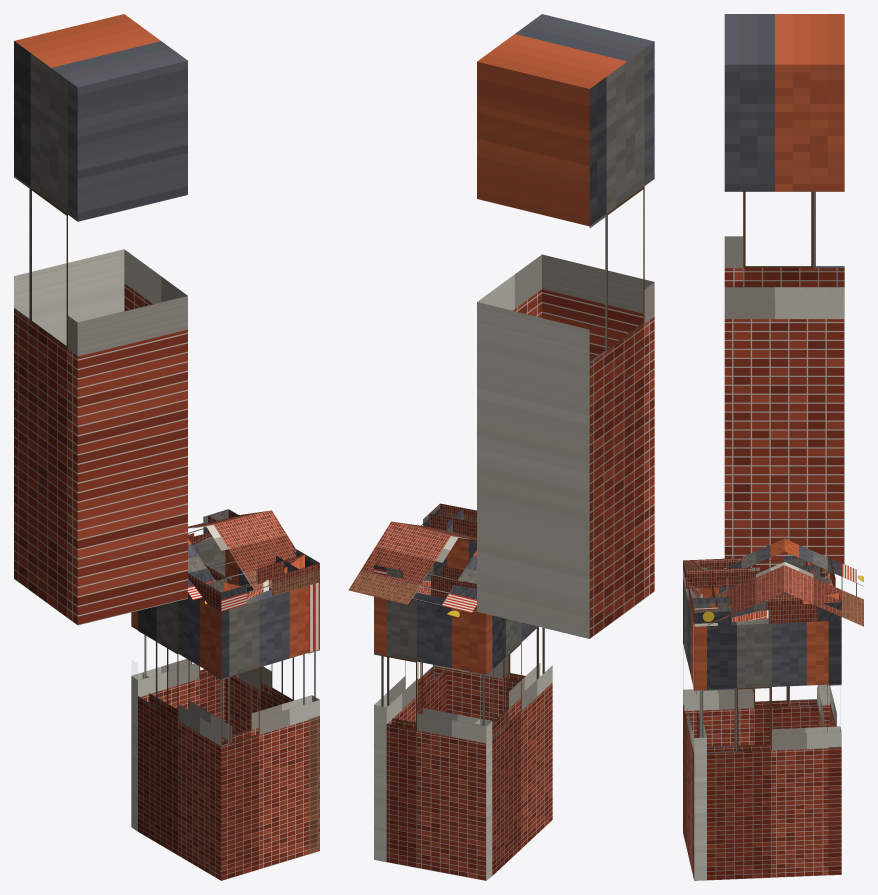
3 views of the same model, side by side, from view 1: azimuth 30°, elevation 25°; view 2: azimuth 150°, elevation 25°; view 3: azimuth 270°, elevation 25° (orthographic). The views are drawn at different scales.
Parts seen in each view (by area): view 1: 238625201__chimney_0_xb, 238625201__wall_3_xb, 238625201__wall_2_xb, 238625201__wall_4_xb, 238625201_roof_-1_xb, 238625201__wall_0_xb, 238625201__cornice_3, 238625201__wall_1_xb, 238625201__cornice_2; view 2: 238625201__chimney_0_xb, 238625201__wall_0_xb, 238625201__wall_2_xb, 238625201_roof_1_xb, 238625201__wall_4_xb, 238625201__wall_3_xb, 238625201__wall_1_xb, 238625201__cornice_3, 238625201__cornice_0; view 3: 238625201__chimney_0_xb, 238625201__wall_4_xb, 238625201__wall_2_xb, 238625201__wall_3_xb, 238625201_roof_1_xb, 238625201__wall_0_xb, 238625201__cornice_4, 238625201_roof_-1_xb, 238625201__cornice_2, 238625201__cornice_3, 238625201__cornice_0, 238625201__wall_1_xb.
Part boxes in pixels (<box>): 238625201__chimney_0_xb: <box>14,14,187,625</box>; 238625201__wall_3_xb: <box>213,585,319,880</box>; 238625201__wall_2_xb: <box>138,592,232,880</box>; 238625201__wall_4_xb: <box>225,549,319,854</box>; 238625201_roof_-1_xb: <box>187,510,296,603</box>; 238625201__wall_0_xb: <box>131,536,225,721</box>; 238625201__cornice_3: <box>207,554,319,611</box>; 238625201__wall_1_xb: <box>131,611,148,831</box>; 238625201__cornice_2: <box>188,564,241,611</box>; 238625201__chimney_0_xb: <box>477,14,654,638</box>; 238625201__wall_0_xb: <box>374,592,491,880</box>; 238625201__wall_2_xb: <box>482,615,552,875</box>; 238625201_roof_1_xb: <box>348,521,477,617</box>; 238625201__wall_4_xb: <box>374,556,446,862</box>; 238625201__wall_3_xb: <box>434,538,544,722</box>; 238625201__wall_1_xb: <box>474,614,492,880</box>; 238625201__cornice_3: <box>429,503,476,542</box>; 238625201__cornice_0: <box>387,566,476,598</box>; 238625201__chimney_0_xb: <box>724,14,844,573</box>; 238625201__wall_4_xb: <box>693,618,841,880</box>; 238625201__wall_2_xb: <box>683,586,818,746</box>; 238625201__wall_3_xb: <box>683,579,706,880</box>; 238625201_roof_1_xb: <box>784,539,863,626</box>; 238625201__wall_0_xb: <box>817,577,841,875</box>; 238625201__cornice_4: <box>692,592,841,626</box>; 238625201_roof_-1_xb: <box>705,539,784,626</box>; 238625201__cornice_2: <box>685,556,820,588</box>; 238625201__cornice_3: <box>683,560,717,626</box>; 238625201__cornice_0: <box>805,555,841,621</box>; 238625201__wall_1_xb: <box>818,573,829,726</box>.
Bounding box in the file's own units: 0.3077 × 1.05 × 0.2256.
Materials: 1 (1 with a texture image).
